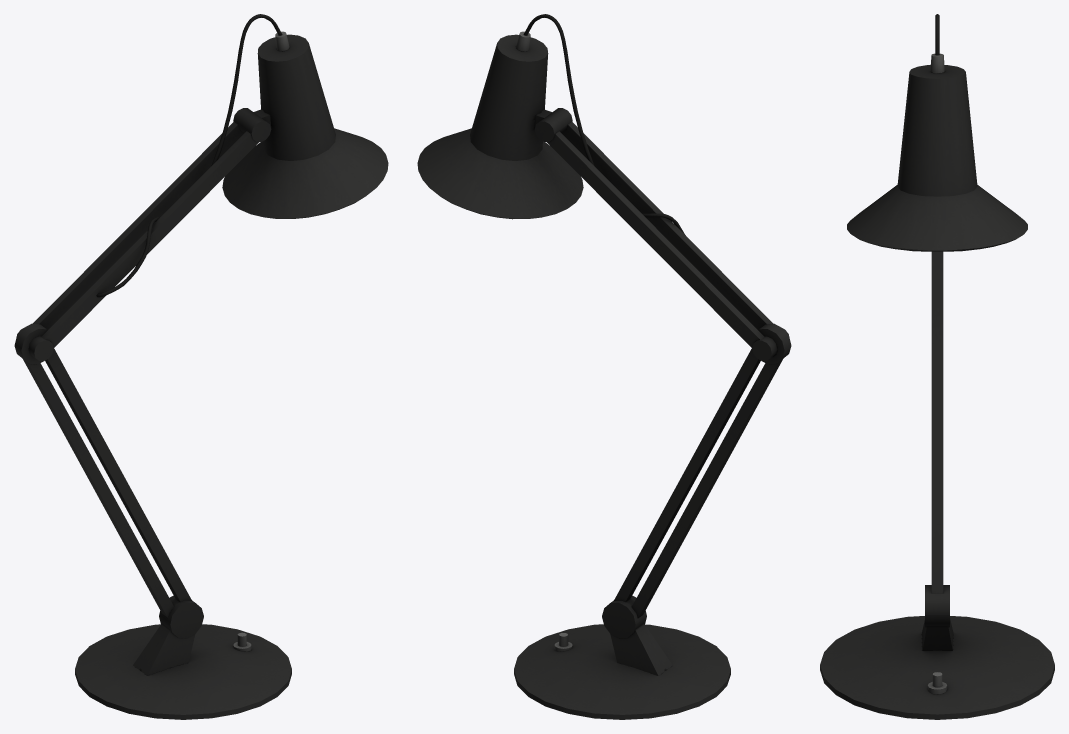
Rendered from lamp.gltf.
3 renders of one model, left to right at view 1: azimuth 30°, elevation 25°; view 2: azimuth 150°, elevation 25°; view 3: azimuth 270°, elevation 25°, orthographic. The views are drawn at different scales.
Parts seen in each view (by area): view 1: lamp_a; view 2: lamp_a; view 3: lamp_a.
Part boxes in pixels (x1,y1,x2,y2): lamp_a: (14, 14, 388, 719); lamp_a: (417, 14, 791, 719); lamp_a: (820, 14, 1054, 719).
Size of the model in its own units: 33.59 by 57.35 by 17.59.
Materials: 1 (1 with a texture image).
